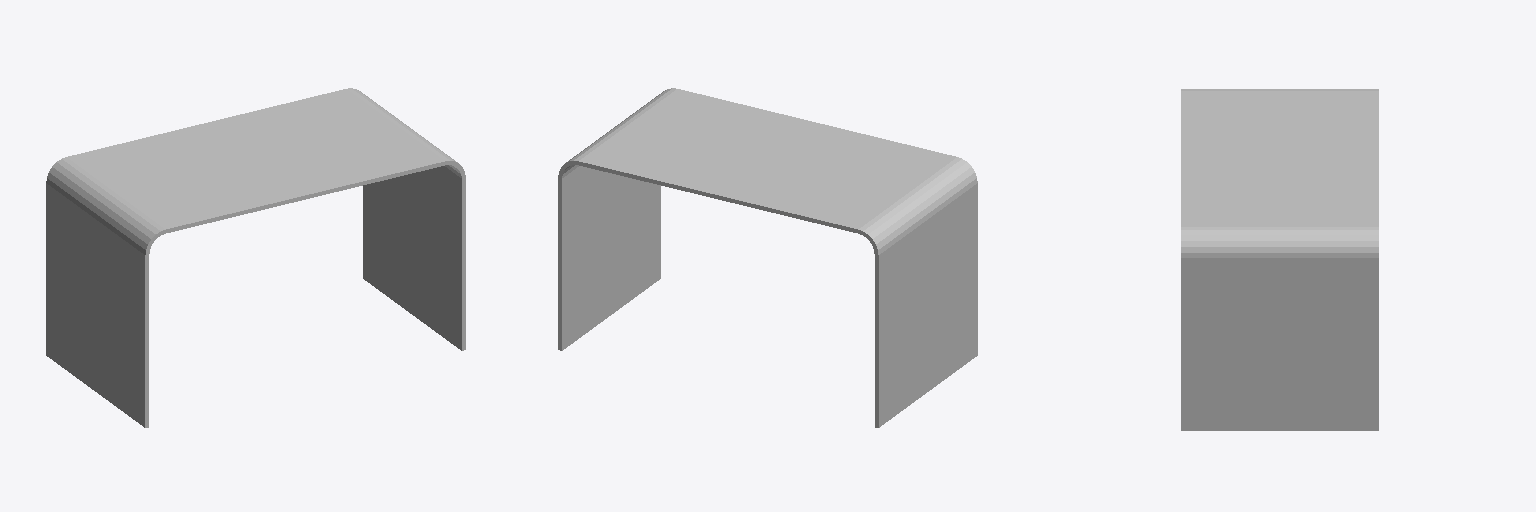
File: Glass desk.obj
3 views of the same model, side by side, from view 1: azimuth 30°, elevation 25°; view 2: azimuth 150°, elevation 25°; view 3: azimuth 270°, elevation 25° (orthographic).
Parts seen in each view (by area): view 1: Cube; view 2: Cube; view 3: Cube.
Part boxes in pixels (bbox=[...]): Cube: bbox=[46, 88, 465, 427]; Cube: bbox=[558, 88, 977, 427]; Cube: bbox=[1181, 89, 1378, 430].
Bounding box in the file's own units: 130 × 75.26 × 69.85.